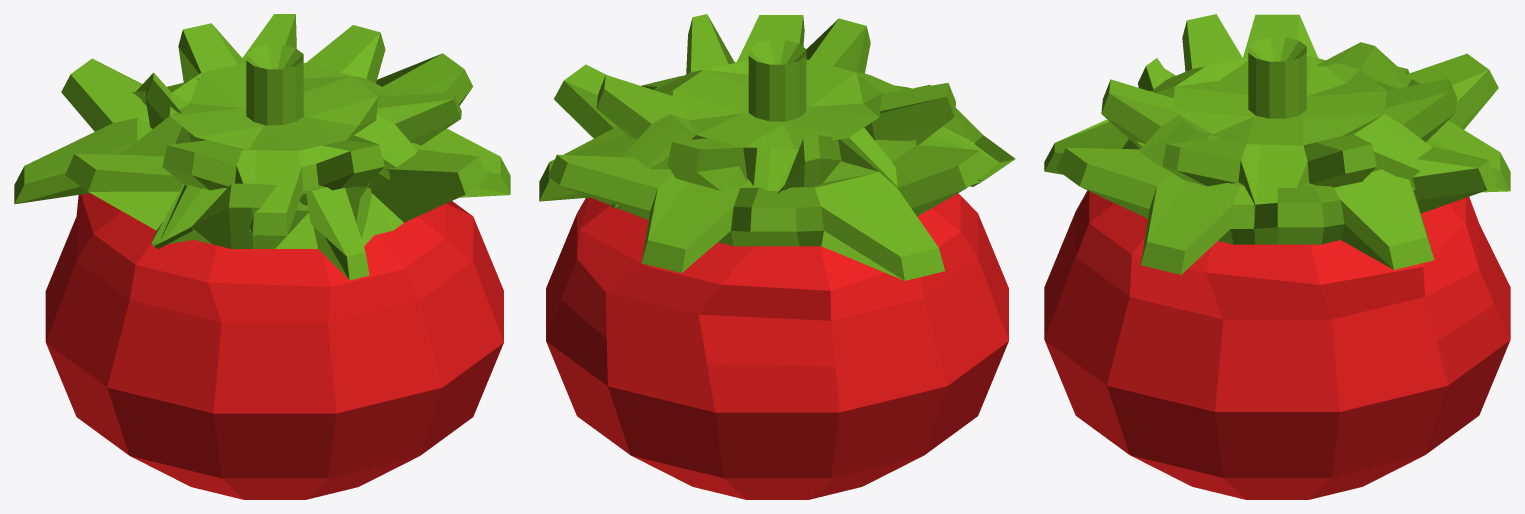
File: tomato.gltf
3 renders of one model, left to right at view 1: azimuth 30°, elevation 25°; view 2: azimuth 150°, elevation 25°; view 3: azimuth 270°, elevation 25°, orthographic.
Visible parts, largest first — view 1: tomato-body, tomato-leaves-1, tomato-leaves-2, tomato-stem; view 2: tomato-body, tomato-leaves-1, tomato-leaves-2, tomato-stem; view 3: tomato-body, tomato-leaves-1, tomato-leaves-2, tomato-stem.
Boxes of the visible parts, x1,y1,x2,y2 form: tomato-body: (45, 193, 503, 499); tomato-leaves-1: (14, 14, 510, 280); tomato-leaves-2: (120, 23, 461, 235); tomato-stem: (246, 45, 303, 125); tomato-body: (546, 193, 1008, 499); tomato-leaves-1: (539, 15, 1015, 280); tomato-leaves-2: (596, 14, 955, 208); tomato-stem: (748, 40, 806, 121); tomato-body: (1044, 190, 1510, 499); tomato-leaves-1: (1044, 14, 1510, 274); tomato-leaves-2: (1101, 14, 1456, 216); tomato-stem: (1248, 37, 1306, 118).
Size of the model in its own units: 1.04 by 1 by 1.
Materials: 4 (4 with a texture image).
